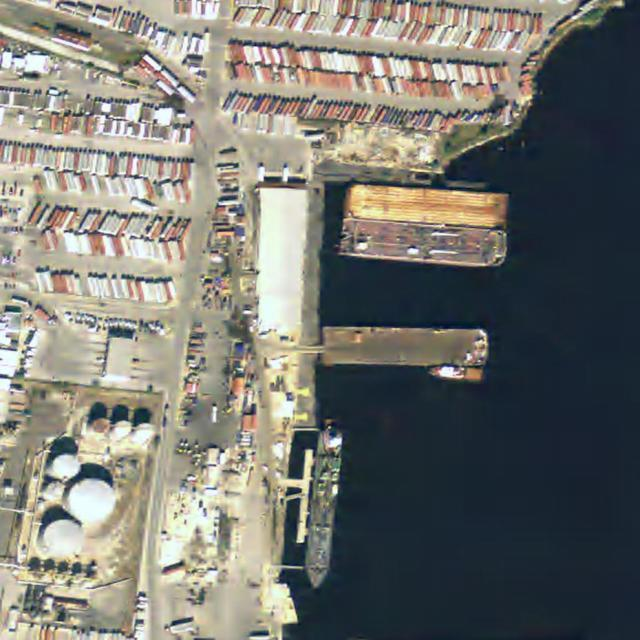Container Ship: (337, 218, 509, 269), (346, 181, 510, 231)
Dock: (297, 448, 312, 544)
Other Ship: (303, 427, 345, 590)
Other Warship: (429, 365, 484, 381)
